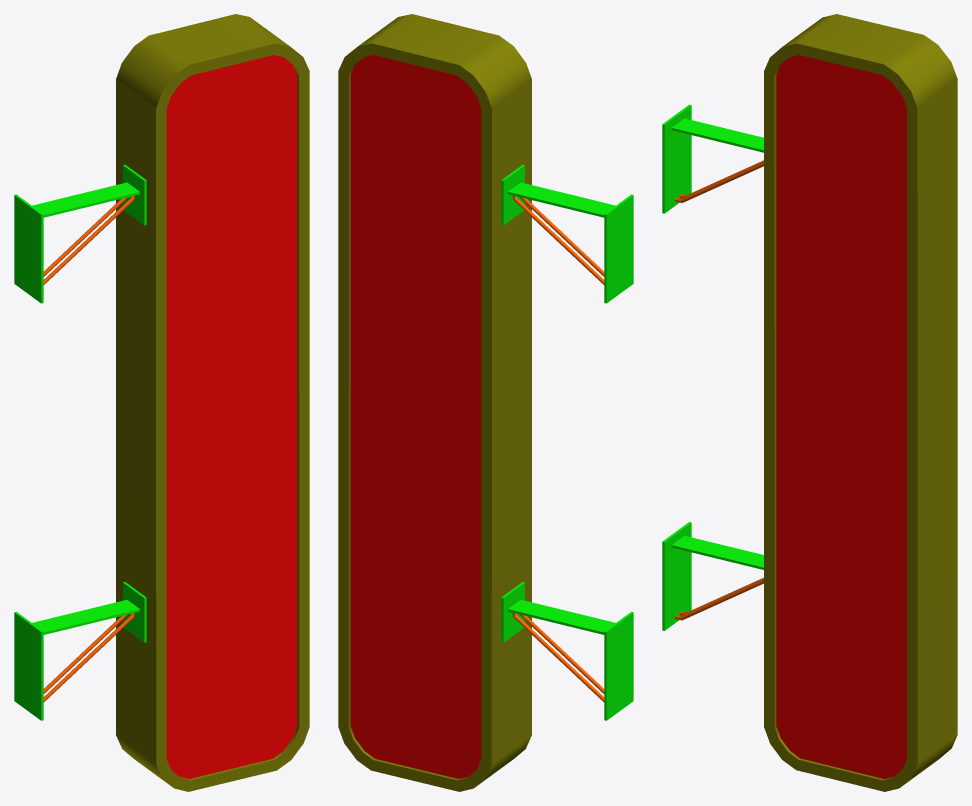
3 views of the same model, side by side, from view 1: azimuth 30°, elevation 25°; view 2: azimuth 150°, elevation 25°; view 3: azimuth 330°, elevation 25° (orthographic).
Parts seen in each view (by area): view 1: quickmaterial1; view 2: quickmaterial1; view 3: quickmaterial1.
Part boxes in pixels (x1,y1,x2,y2): quickmaterial1: [14, 14, 309, 791]; quickmaterial1: [338, 14, 633, 791]; quickmaterial1: [662, 14, 957, 791].
Size of the model in its own units: 2.14 by 5.67 by 0.568.
